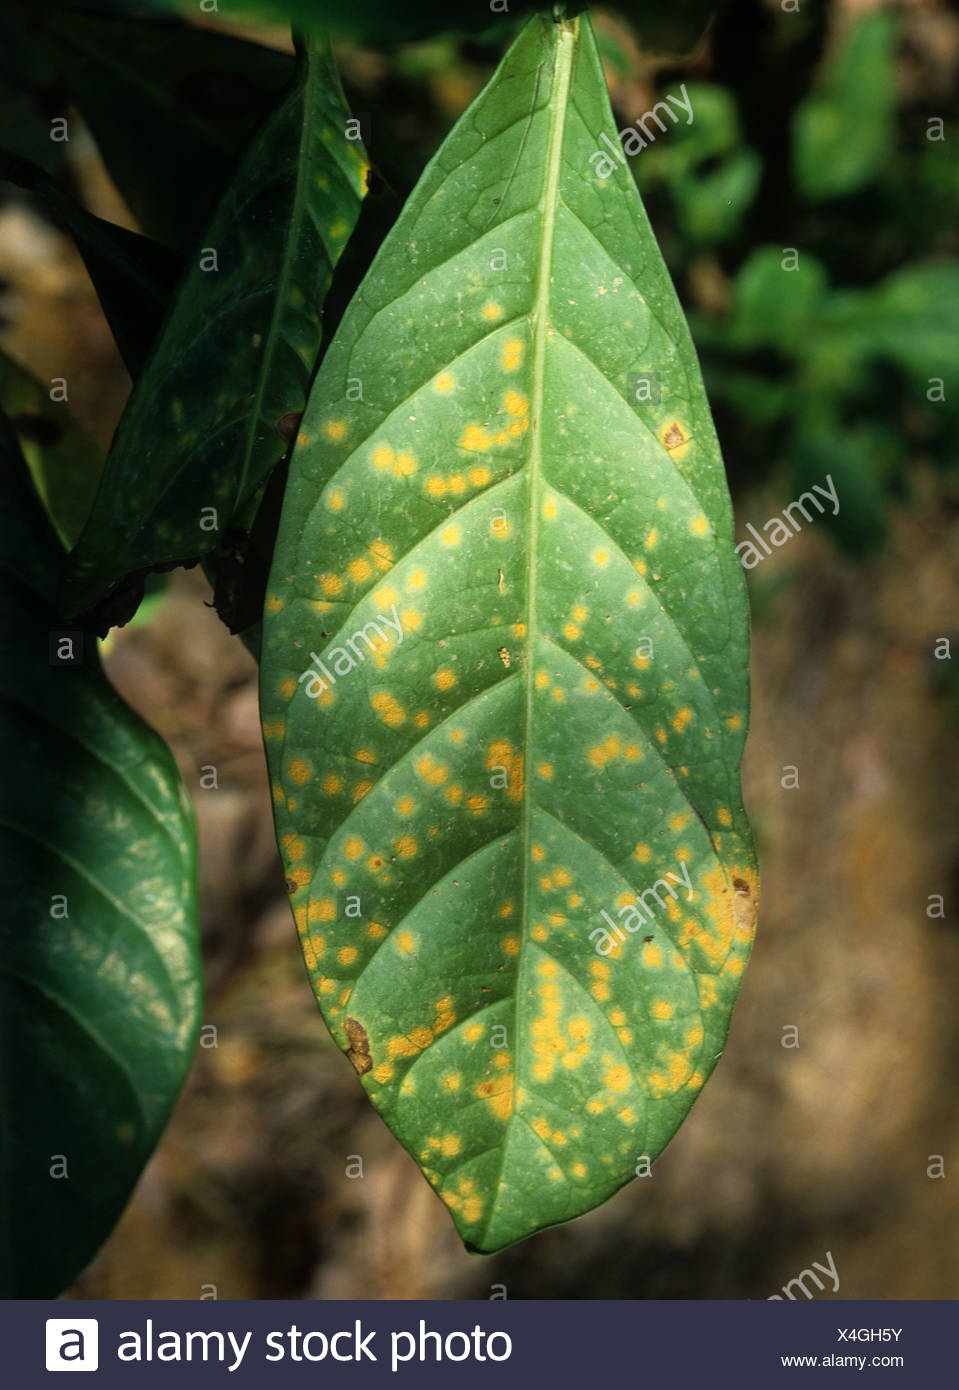roya: (304, 281, 756, 1211)
